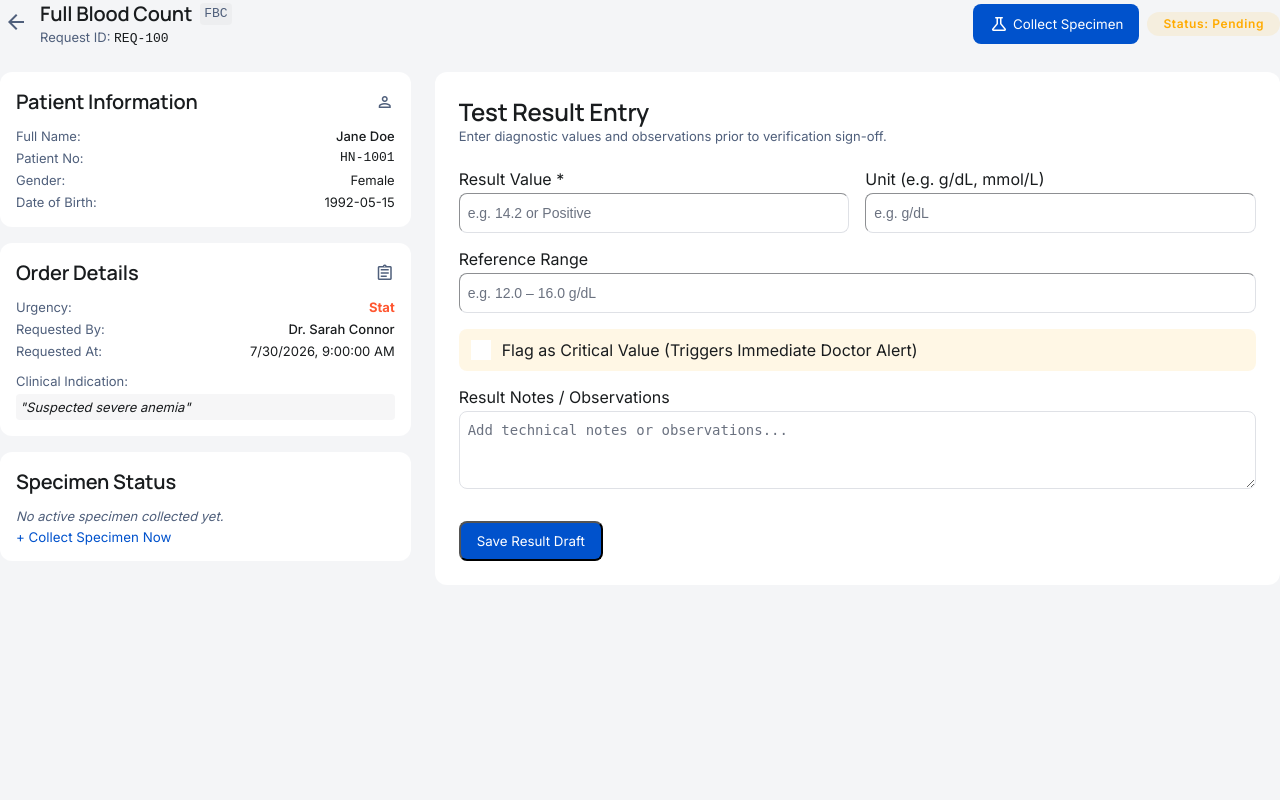
Test: LabRequestDetailPage Component › opens collect specimen modal when collect specimen action is clicked
Check: the heading "Full Blood Count" is shown, box [40, 0, 192, 28]
What coordinates should you click on to do the following:
click the button "Collect Specimen"
I would click on:
 (1056, 24)
Its box is [973, 4, 1139, 44].
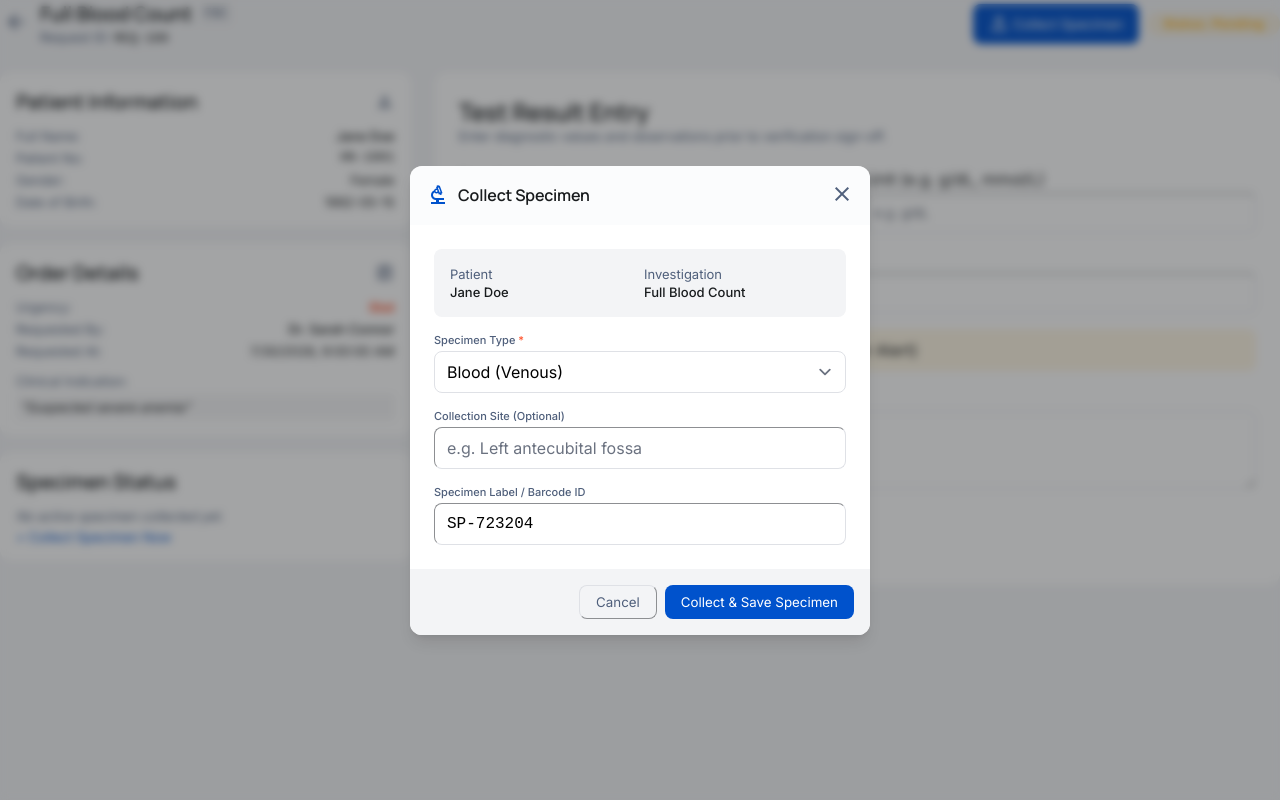
Check: the dialog is shown
